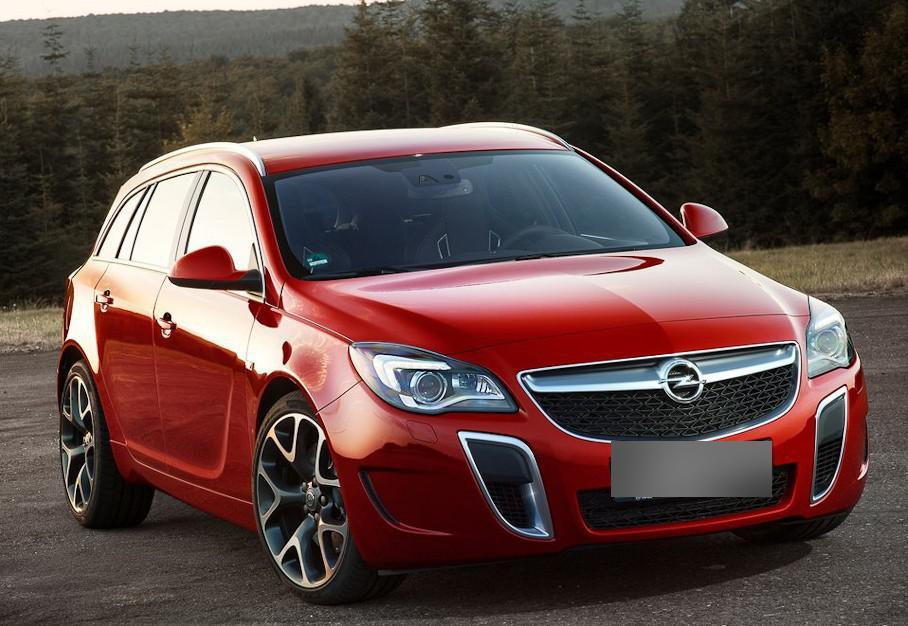Wagon: (57, 121, 870, 606)
